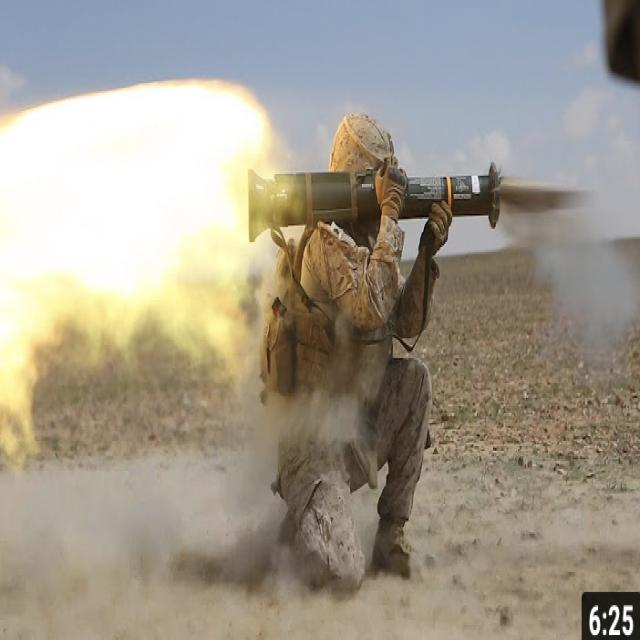bazooka: (241, 168, 600, 232)
